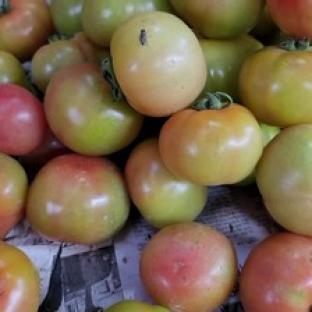Tomato: (111, 12, 206, 116), (26, 154, 129, 245), (44, 63, 143, 155), (159, 99, 263, 185), (140, 222, 238, 311), (124, 138, 207, 228), (239, 42, 311, 126), (257, 124, 311, 235), (240, 232, 311, 311), (31, 33, 108, 93), (200, 35, 263, 103), (0, 84, 47, 155), (0, 241, 40, 311), (19, 129, 71, 178), (0, 154, 27, 239), (0, 51, 32, 90), (250, 5, 279, 45), (106, 300, 169, 311), (260, 123, 281, 147)
